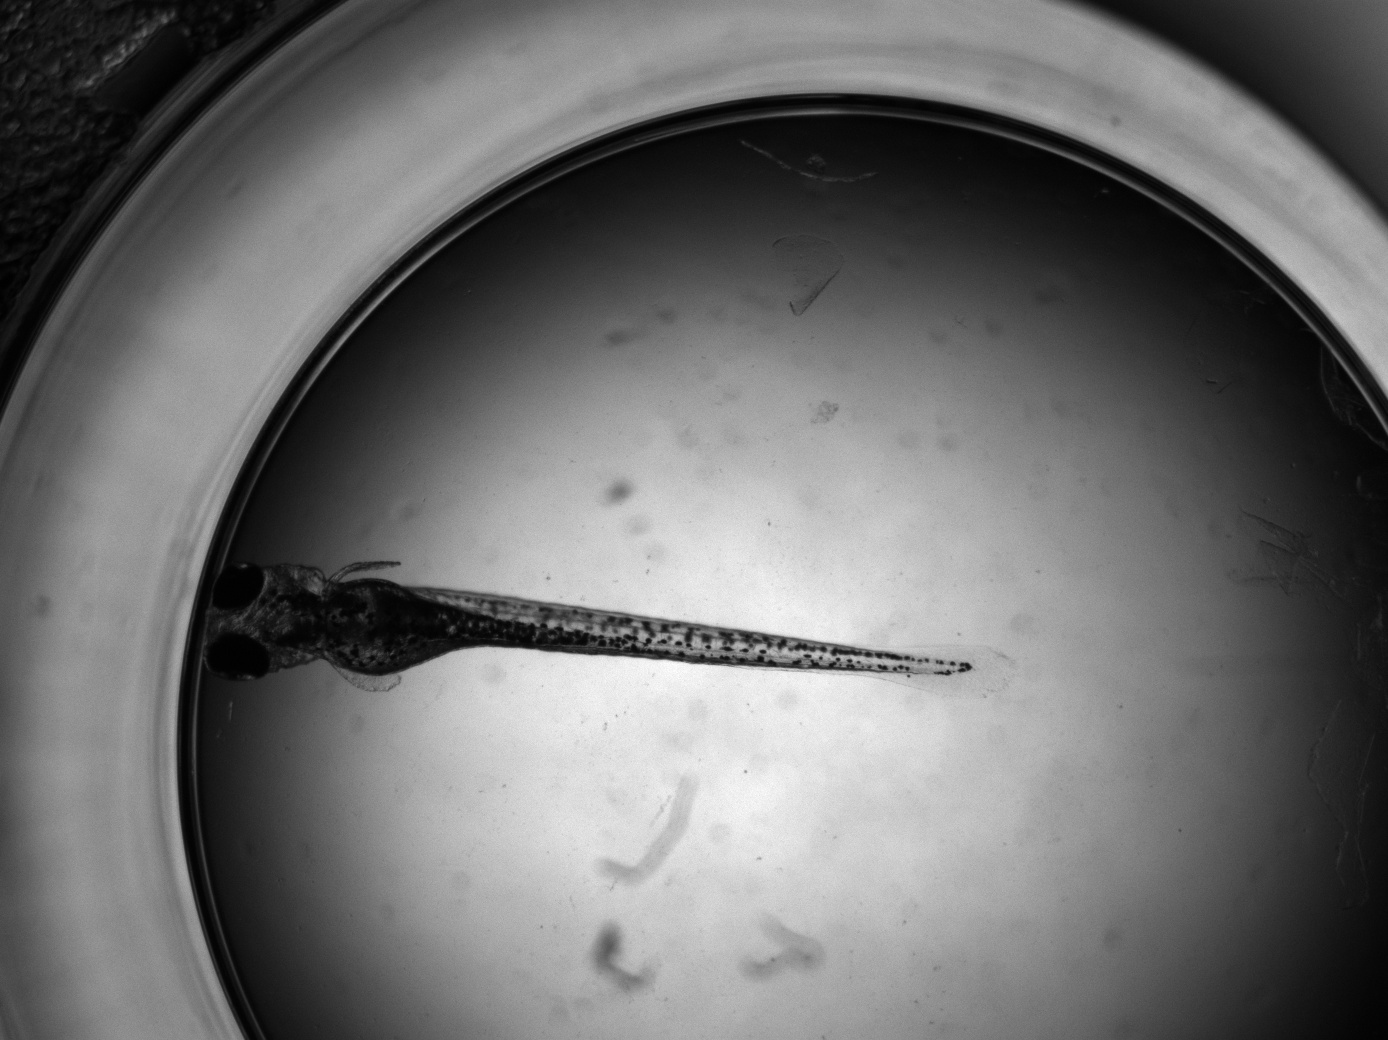embryo: (201, 558, 976, 683)
eye: (205, 633, 268, 679), (211, 559, 264, 610)
yolksac: (323, 577, 426, 675)
